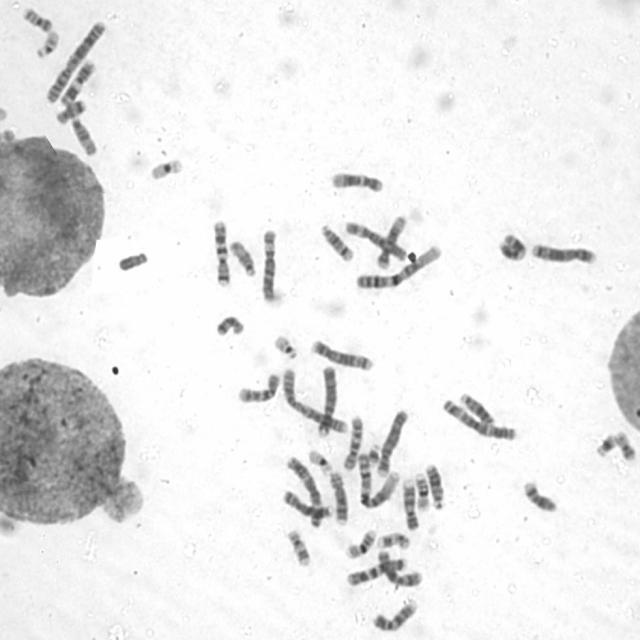A1: (354, 243, 444, 292), (355, 450, 403, 511)
A2: (44, 19, 109, 106), (281, 368, 349, 435)
A3: (441, 395, 518, 443), (284, 455, 324, 530)
B4: (373, 409, 409, 479), (312, 363, 338, 442)
B5: (308, 339, 376, 372), (530, 242, 598, 264)
C10: (235, 370, 282, 405), (340, 413, 364, 473)
C11: (56, 59, 98, 108), (496, 233, 528, 262)
C12: (372, 212, 407, 269), (328, 169, 387, 193)
C6: (342, 221, 406, 262), (259, 230, 281, 302)
C7: (345, 556, 408, 588), (211, 220, 232, 288)
C8: (281, 488, 334, 520), (328, 470, 350, 524)
C9: (371, 598, 418, 632), (400, 478, 420, 530)
D13: (458, 391, 497, 426), (423, 461, 446, 511)
D14: (316, 224, 354, 262), (522, 479, 558, 513)
D15: (228, 239, 258, 280), (69, 116, 97, 158)
E16: (343, 527, 377, 559), (413, 472, 430, 513)
E17: (285, 527, 313, 568), (378, 531, 412, 549)
E18: (53, 97, 87, 125), (214, 312, 247, 338)
F19: (147, 157, 184, 181), (306, 448, 335, 478)
F20: (20, 5, 54, 34), (612, 429, 637, 462)
G21: (593, 432, 621, 457), (366, 442, 382, 468)
G22: (34, 30, 60, 59), (271, 333, 297, 360)
X: (376, 546, 420, 590)
Y: (116, 251, 151, 274)
